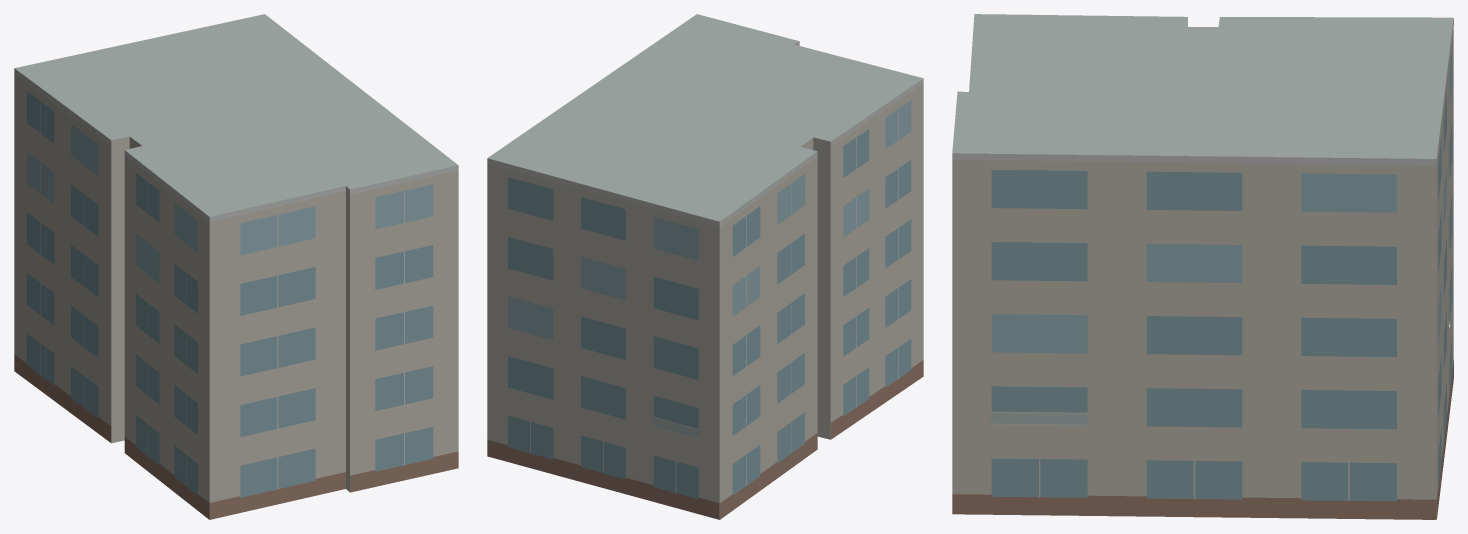
Rendered from survey-upis-32929328.glb.
3 renders of one model, left to right at view 1: azimuth 30°, elevation 25°; view 2: azimuth 150°, elevation 25°; view 3: azimuth 270°, elevation 25°, orthographic. The views are drawn at different scales.
Visible parts, largest first — view 1: survey-upis-32929328.tmp; view 2: survey-upis-32929328.tmp; view 3: survey-upis-32929328.tmp.
Part boxes in pixels (box(x1,y1,x2,y2)): survey-upis-32929328.tmp: box(14, 14, 458, 519); survey-upis-32929328.tmp: box(487, 14, 923, 519); survey-upis-32929328.tmp: box(952, 14, 1453, 519).
Size of the model in its own units: 11.81 by 13.7 by 17.27.
